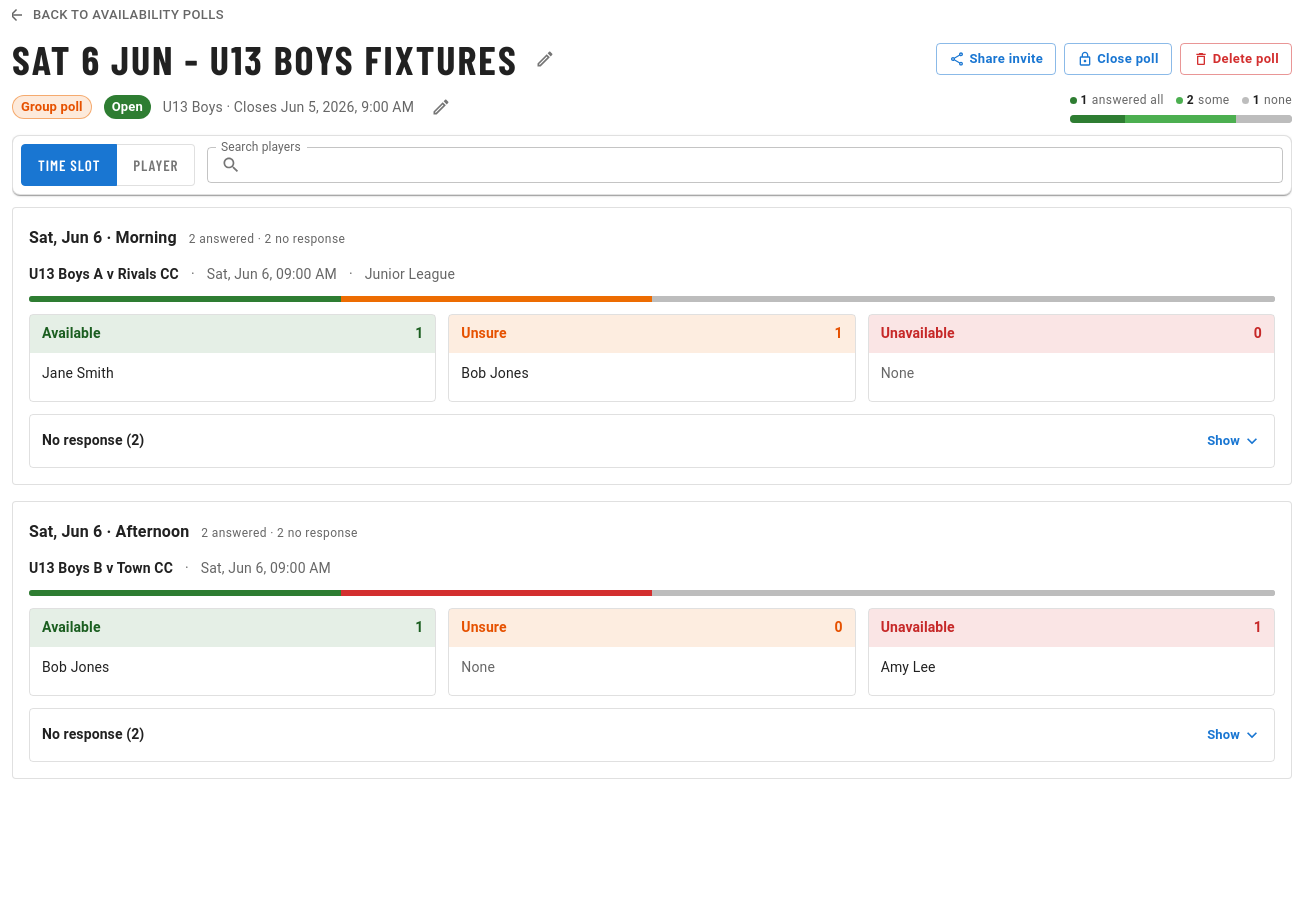
GroupPollResponsesPage › Player tab status chips, sorting and slot selector (085 J) › choosing a slot in the selector changes what the chips count
This screenshot has width=1304, height=900.
Check: the heading "Sat 6 Jun - U13 Boys fixtures" is shown, box [12,39,518,79]
Click the button "Player" at [156, 165], box [116,144,195,186]
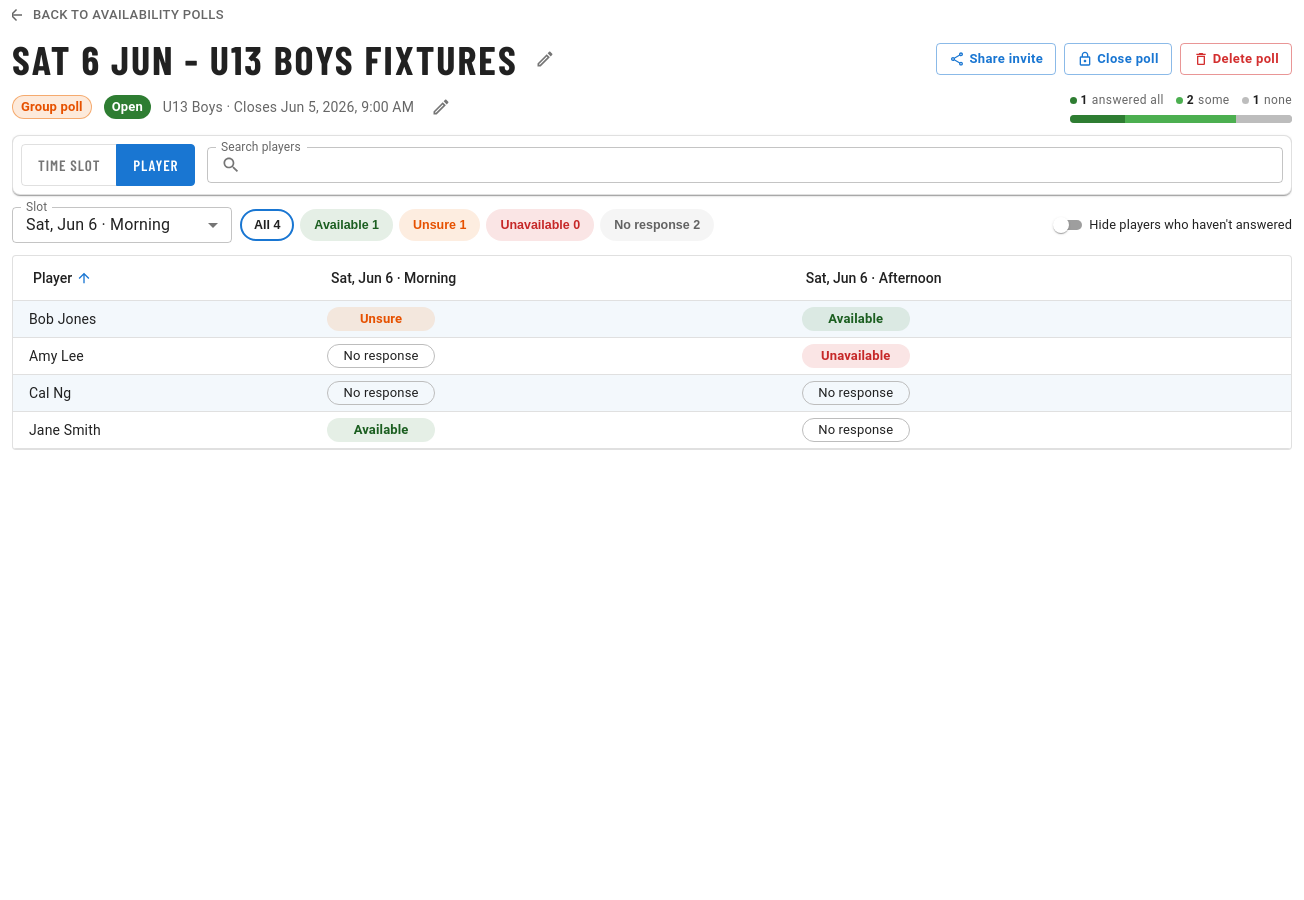
Click the dropdown named "Slot" at [98, 225], box [26,215,170,234]
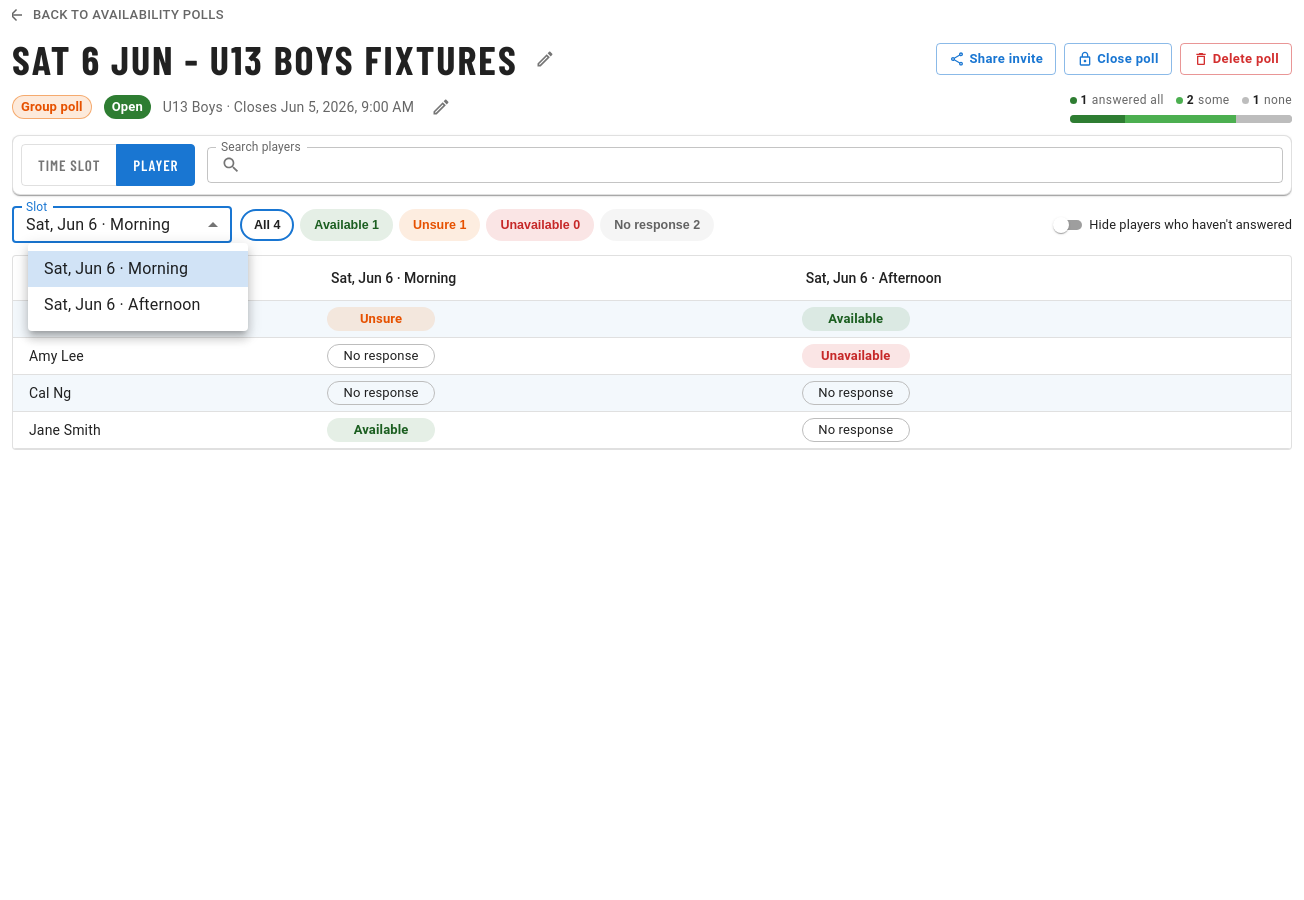
Click the option "Sat, Jun 6 · Afternoon" at [122, 304], box [44,295,200,314]
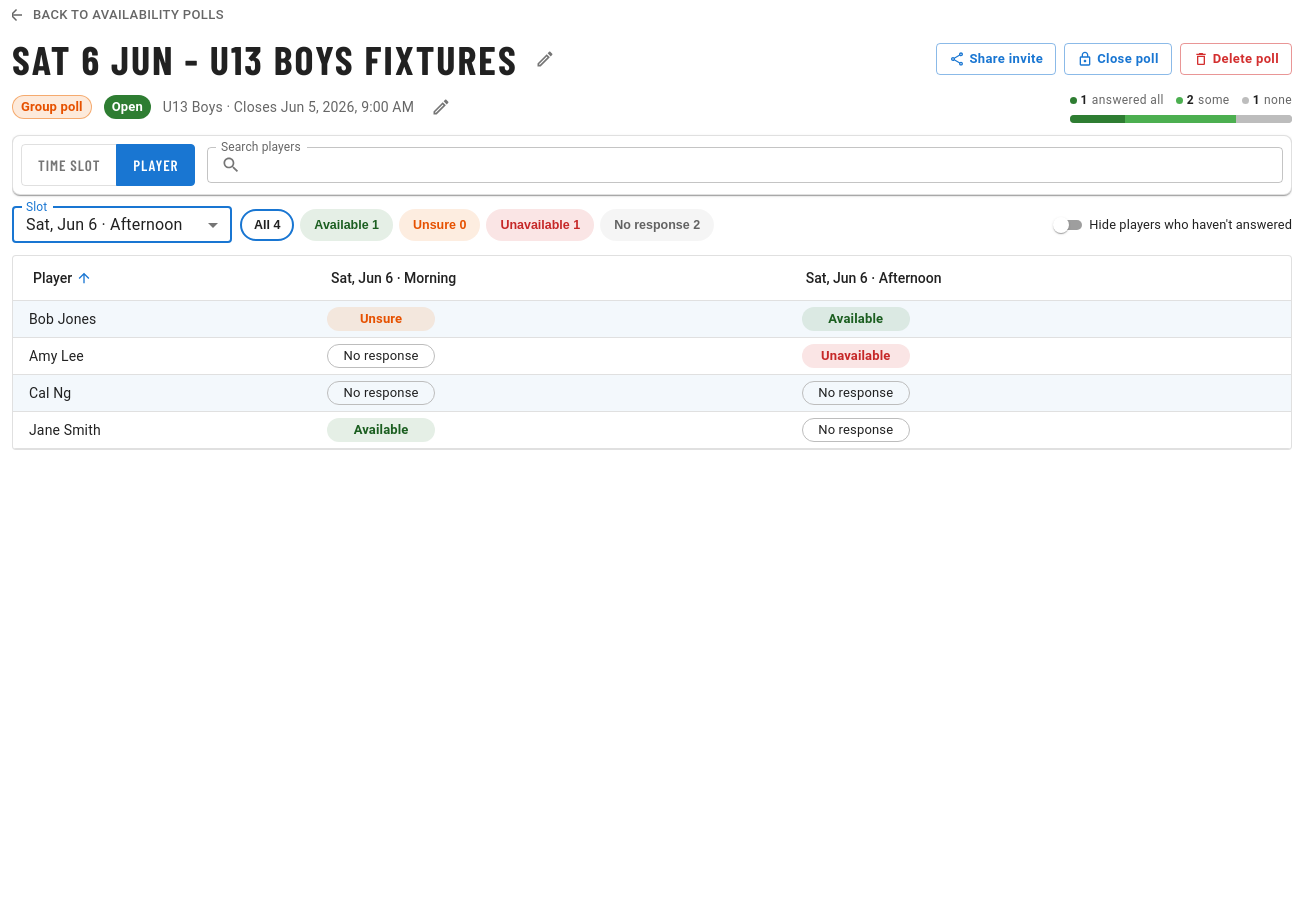
Check: the button "Unavailable 1" is shown, box [486,209,594,241]
